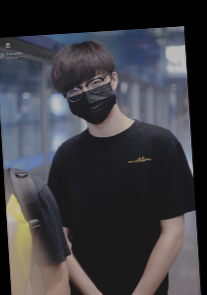with_mask: (65, 72, 118, 125)
